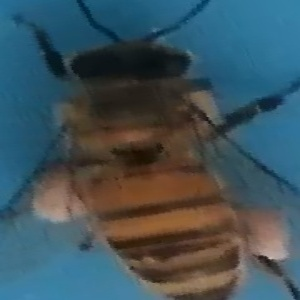bee: (3, 2, 293, 300)
